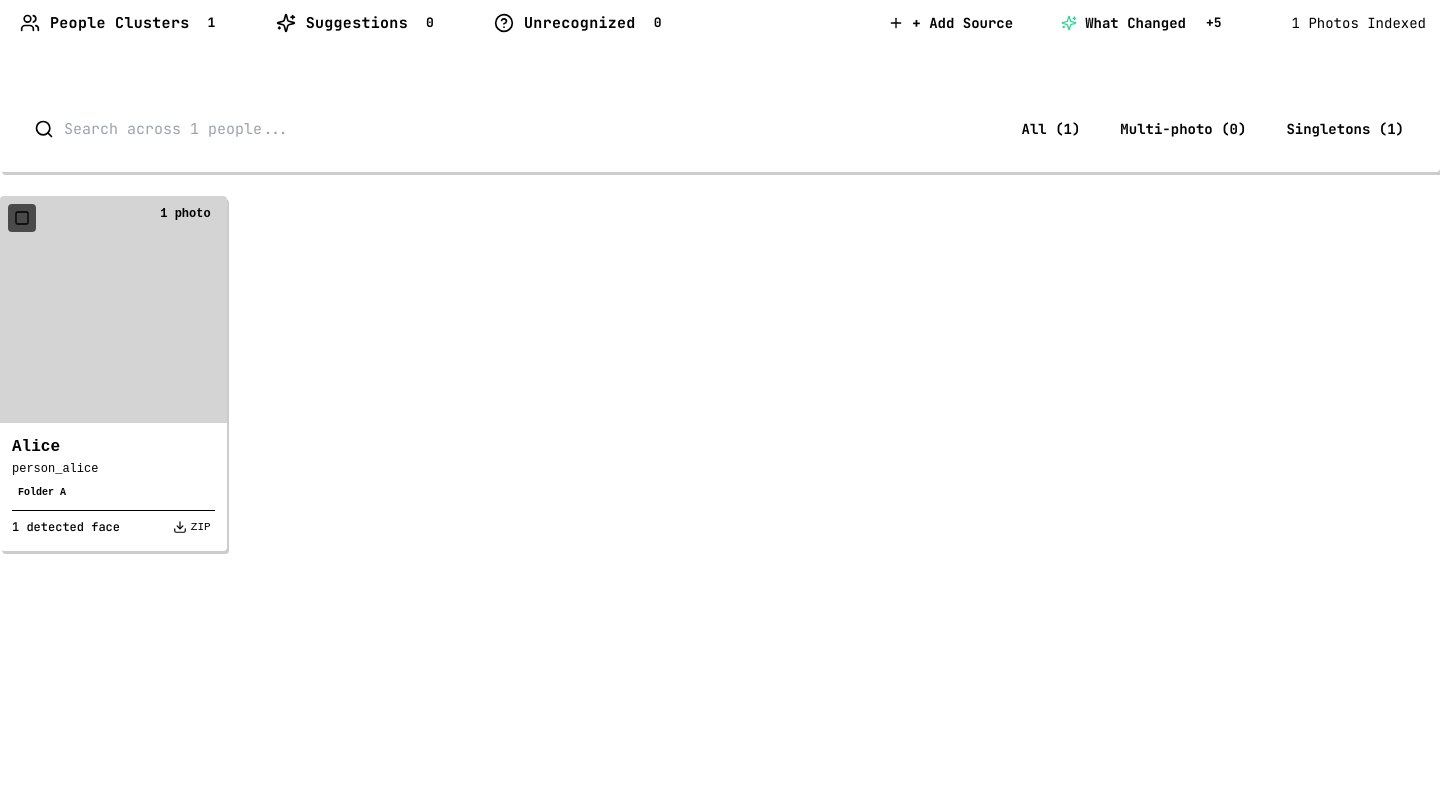
Scenario: Incremental Source Ingestion & What Changed UI (Phase V2-3) › ReviewPeopleScreen Integration › renders What Changed button when a report exists and opens WhatChangedModal on click
What coordinates should you click on to do the following:
click the button with test id "btn-view-what-changed"
I would click on:
 (1145, 23)
Its box is [1043,2,1248,44].
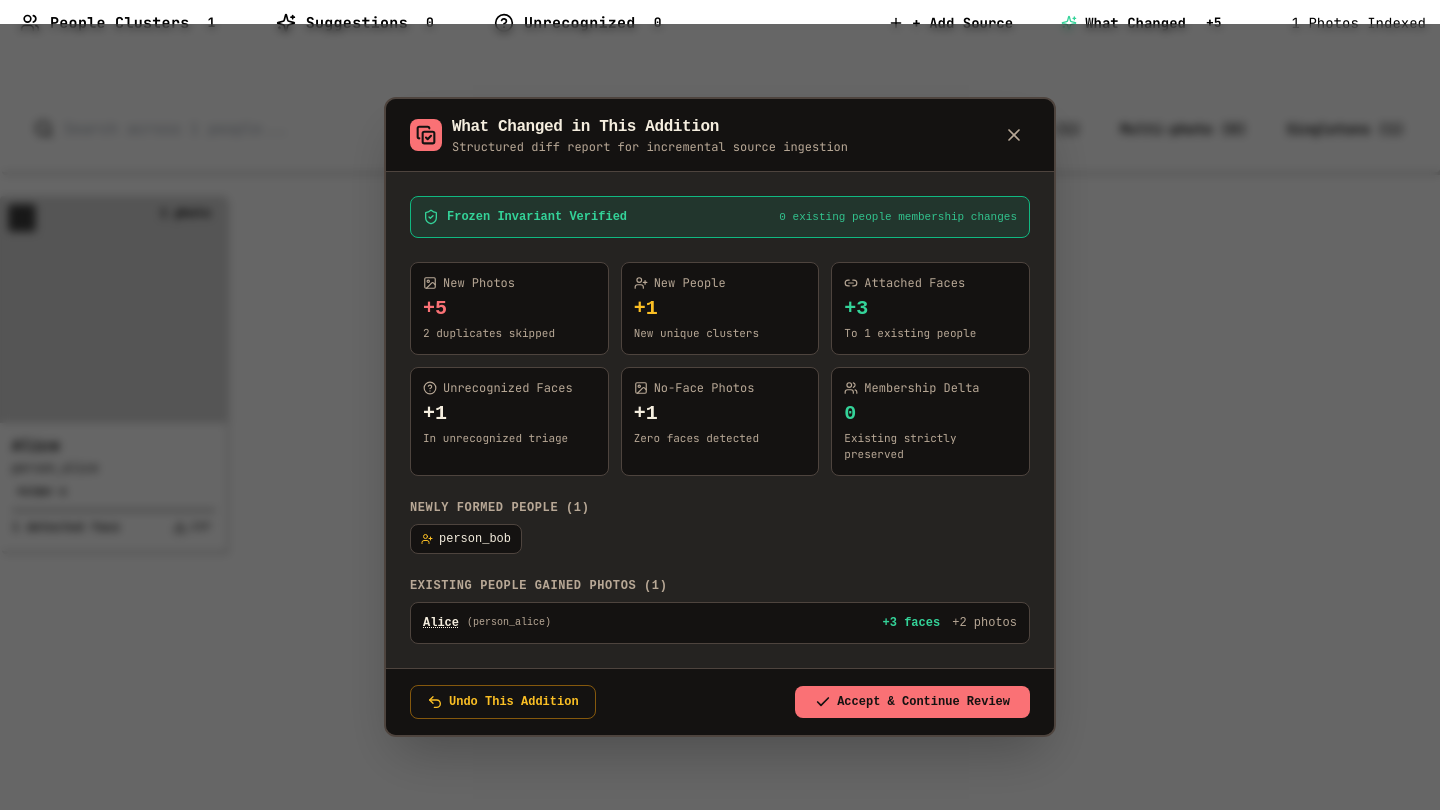
expect the element with test id "what-changed-modal-card" is shown: met, box [384,97,1056,737]
